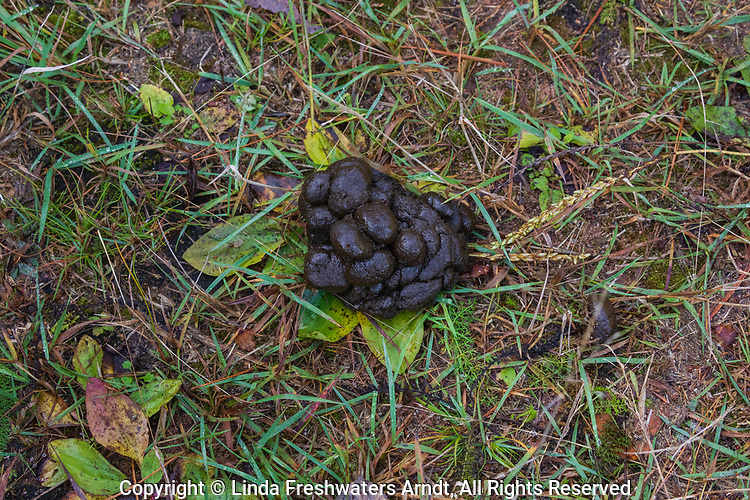Elk: (302, 158, 482, 303)
